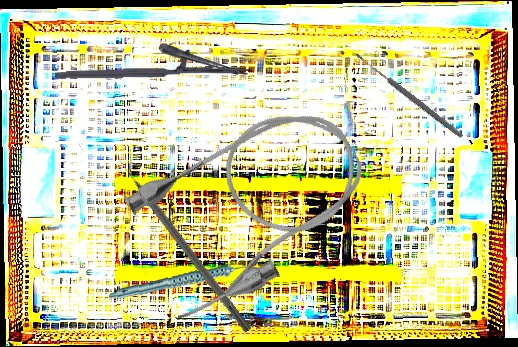Cannula: (110, 82, 390, 333)
Handpiece: (109, 259, 255, 305)
Hook Surgical: (113, 153, 253, 334)
Needle Holder: (54, 41, 249, 80)
Surgical Spoon: (354, 51, 465, 140)
